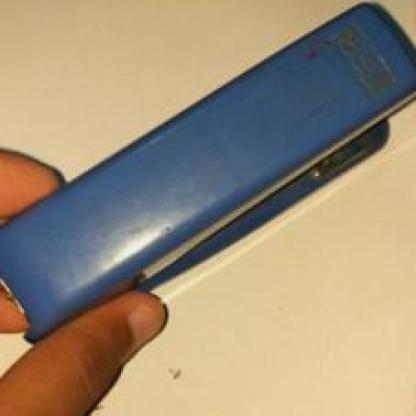stapler: (8, 10, 402, 353)
